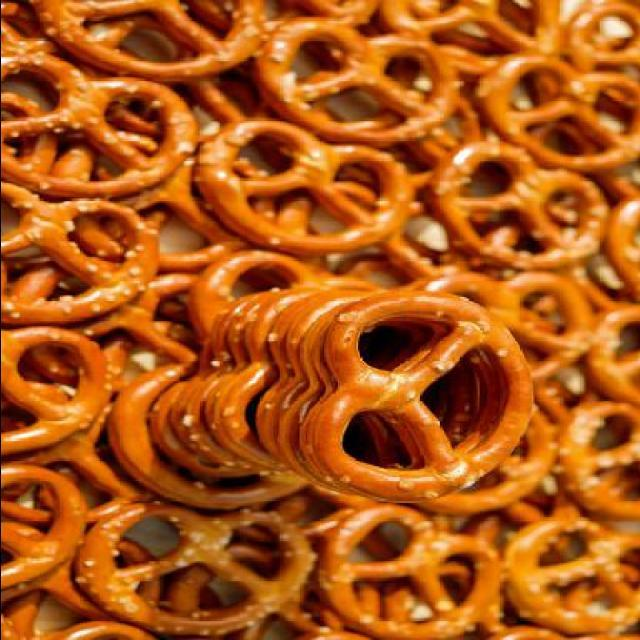Salatini packaged: (126, 283, 538, 506)
